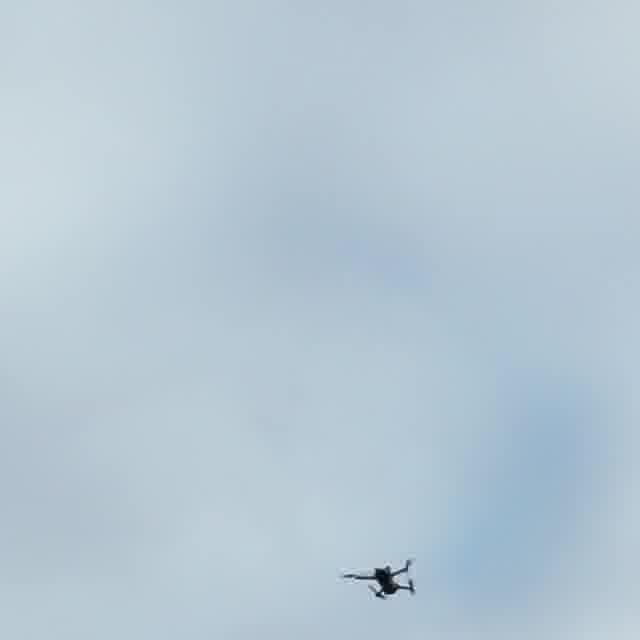Drohne: (343, 559, 414, 598)
